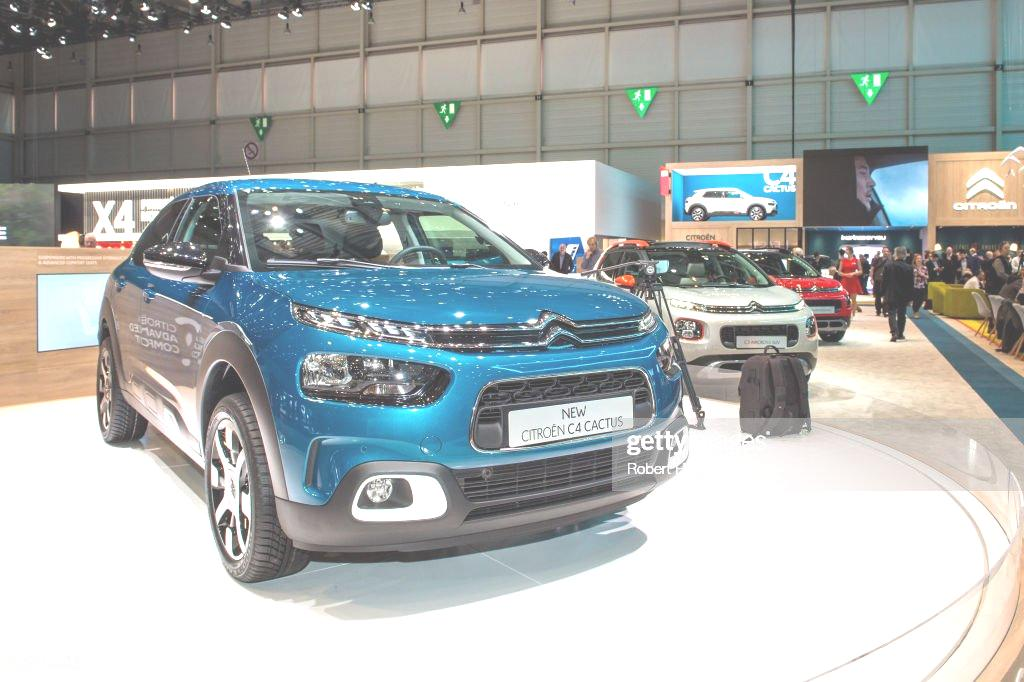Citroen: (532, 304, 590, 360), (741, 293, 772, 322)
